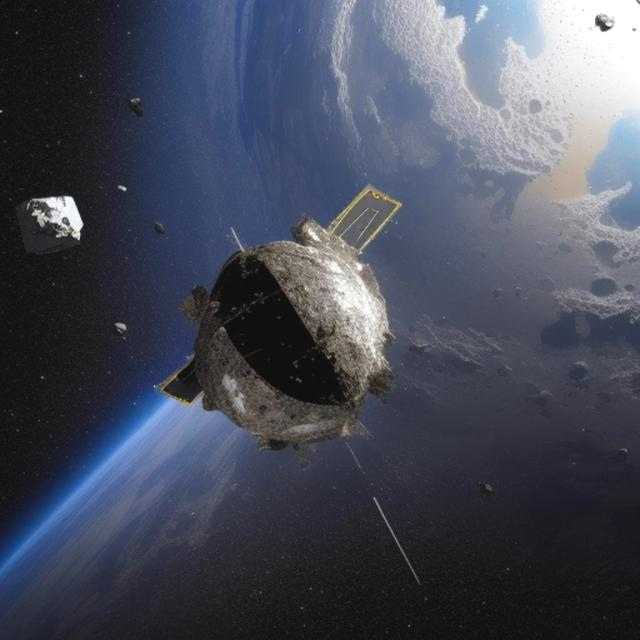large_debris: (12, 176, 111, 265), (582, 0, 624, 47), (107, 304, 143, 350)
medium_debris: (0, 151, 486, 640)
